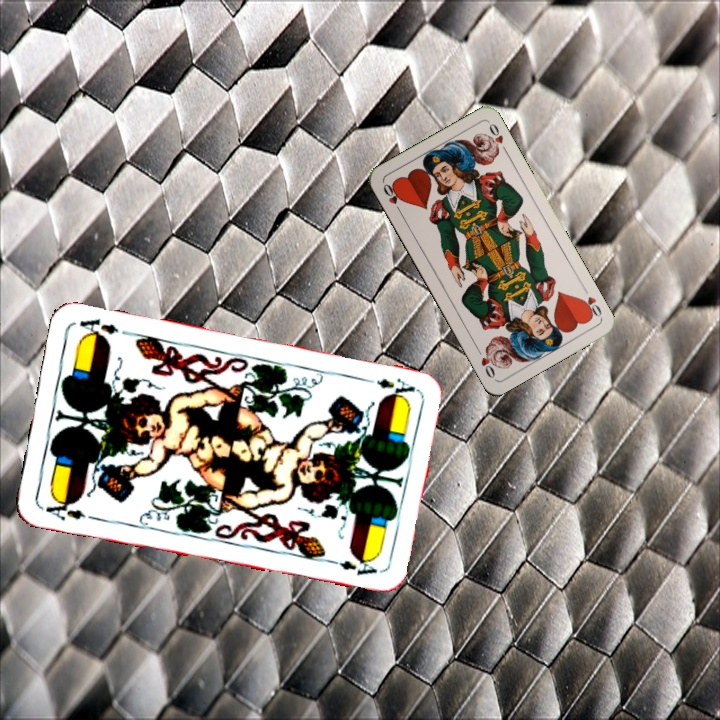EA: (359, 374, 418, 399), (41, 494, 88, 524)
HO: (576, 283, 604, 321), (379, 179, 405, 216)
